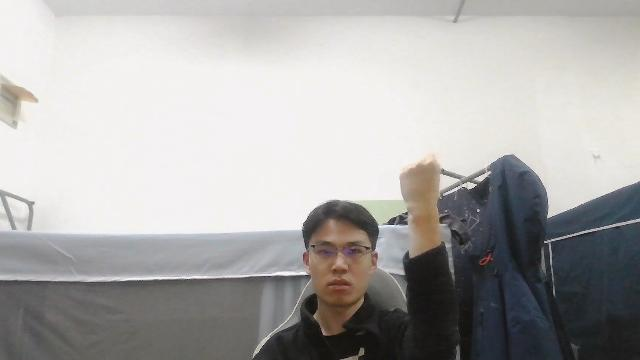ten: (398, 150, 443, 213)
